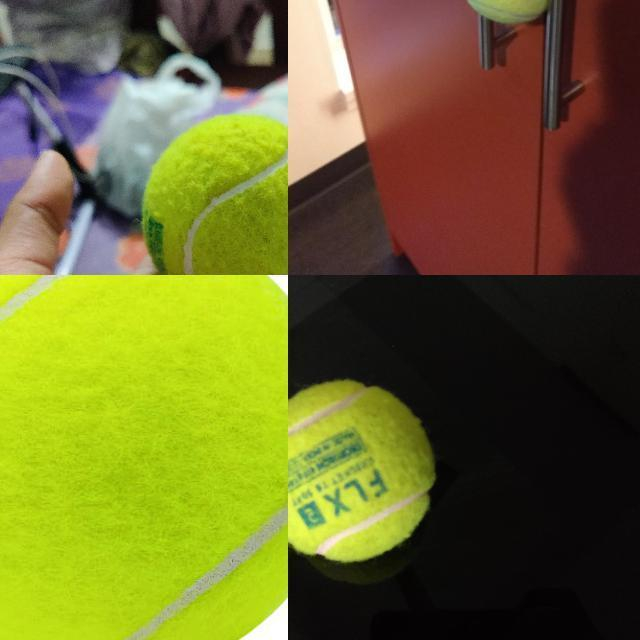tennis-ball: (0, 275, 287, 639), (288, 379, 436, 562), (140, 114, 287, 274), (455, 0, 547, 24)
